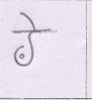e_matra: (21, 12, 40, 29)
